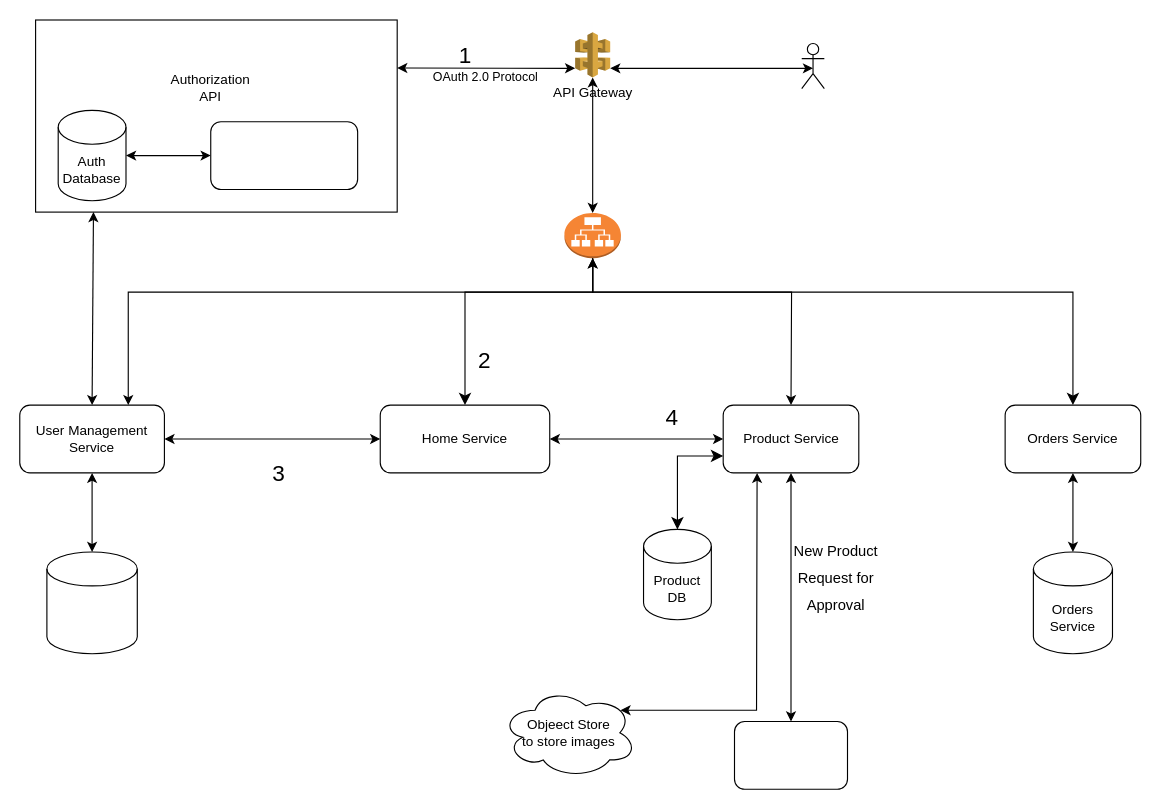
This 1161x809 diagram has some shape labels left out. The centre of each missing label's shape, as x and y in pixels:
"Admin Services" goes at [790,754].
"Auth Server" goes at [284,155].
"External Load Balancer" goes at [592,235].
"User Management DB" goes at [91,602].
"Vendor" goes at [812,65].
